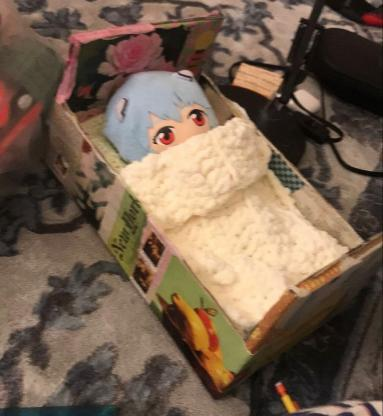rei-plush: (102, 64, 213, 165)
